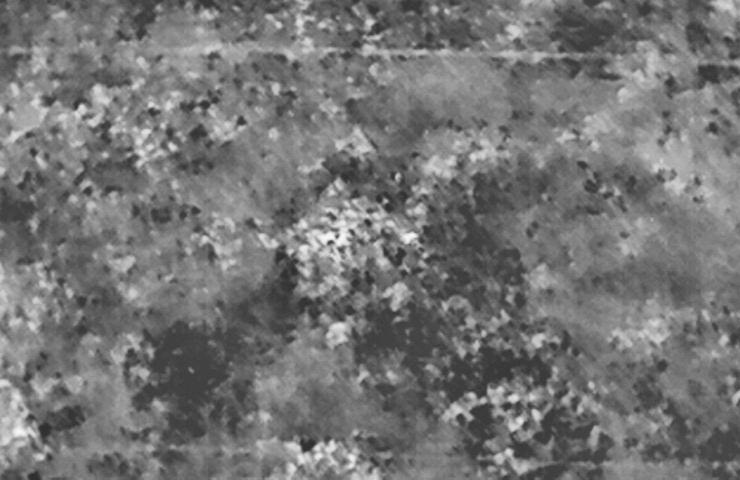landmines: (286, 180, 421, 288)
